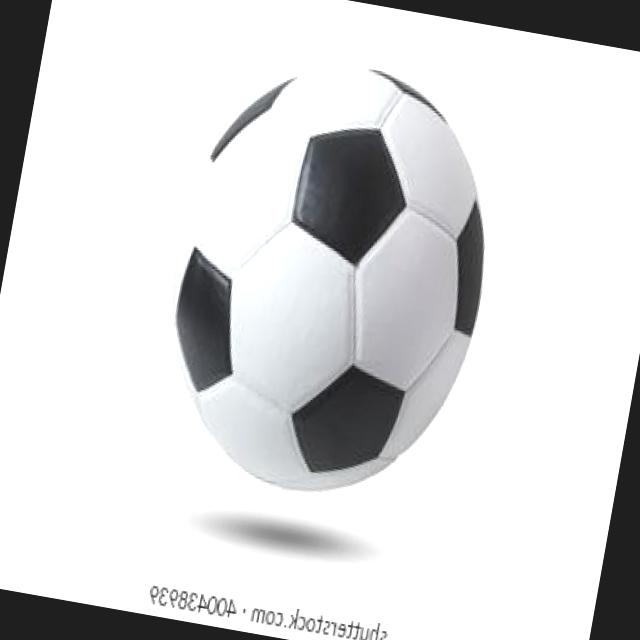Soccer Ball: (140, 39, 522, 518)
